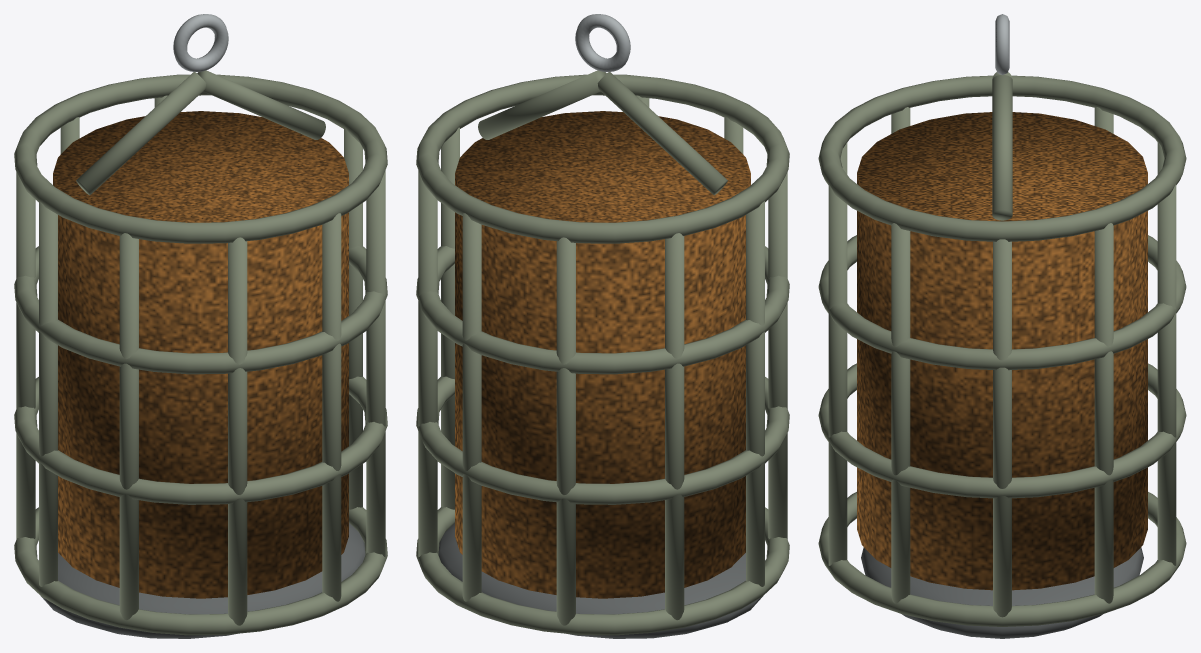
The model's file is cage_feeder.glb.
3 renders of one model, left to right at view 1: azimuth 30°, elevation 25°; view 2: azimuth 150°, elevation 25°; view 3: azimuth 270°, elevation 25°, orthographic.
Parts seen in each view (by area): view 1: Basket hoop; view 2: Basket hoop; view 3: Basket hoop.
Part boxes in pixels (left/top/right/bottom): Basket hoop: left=14, top=14, right=387, bottom=638; Basket hoop: left=416, top=14, right=789, bottom=638; Basket hoop: left=818, top=14, right=1186, bottom=638.
Size of the model in its own units: 0.0468 by 0.0809 by 0.0468.
4 materials, 1 textured.
